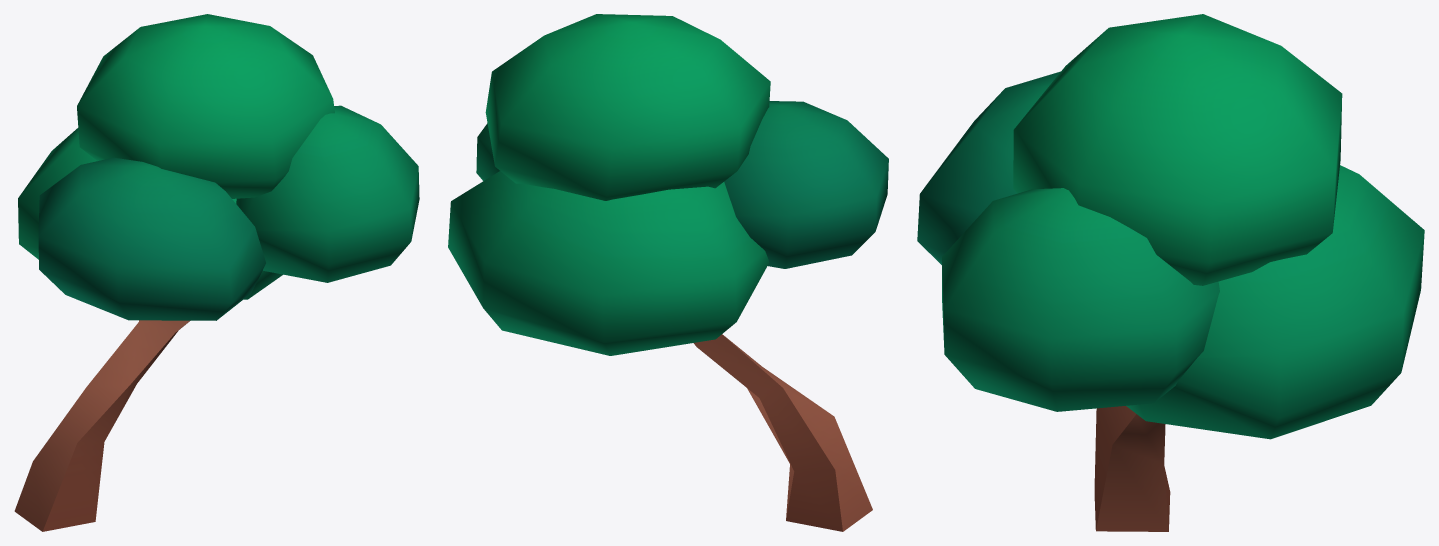
The model's file is tree_B.glb.
The picture shows the model from 3 angles, left to right: view 1: azimuth 30°, elevation 25°; view 2: azimuth 150°, elevation 25°; view 3: azimuth 270°, elevation 25°; orthographic projection. The views are drawn at different scales.
Visible parts, largest first — view 1: tree_B; view 2: tree_B; view 3: tree_B.
Boxes of the visible parts, x1,y1,x2,y2 form: tree_B: (14, 14, 419, 531); tree_B: (448, 14, 888, 531); tree_B: (917, 14, 1424, 531).
Bounding box in the file's own units: 0.9491 × 1.09 × 0.8505.
Materials: 1 (1 with a texture image).
